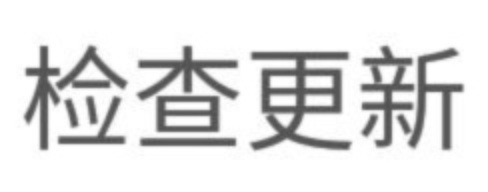TextView: (1, 1, 487, 191)
